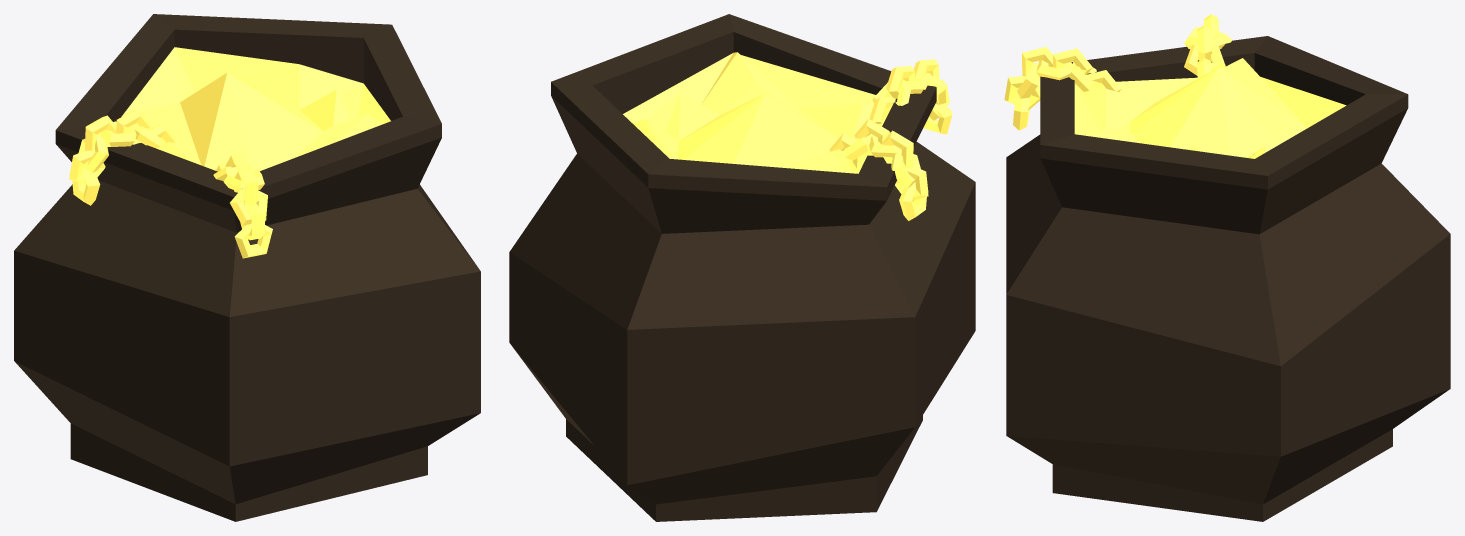
Rendered from gold.fbx.
3 renders of one model, left to right at view 1: azimuth 30°, elevation 25°; view 2: azimuth 150°, elevation 25°; view 3: azimuth 270°, elevation 25°, orthographic.
Visible parts, largest first — view 1: gold; view 2: gold; view 3: gold.
Part boxes in pixels (bbox=[...]): gold: bbox=[14, 14, 480, 521]; gold: bbox=[509, 14, 975, 521]; gold: bbox=[1004, 14, 1450, 521].
Size of the model in its own units: 47.55 by 41.37 by 45.42.
